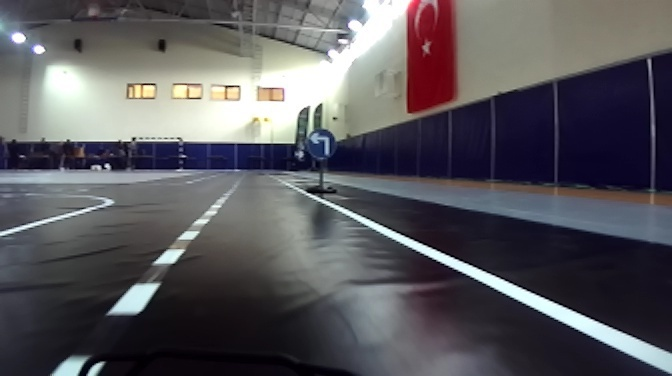sola_donus: (306, 128, 334, 160)
